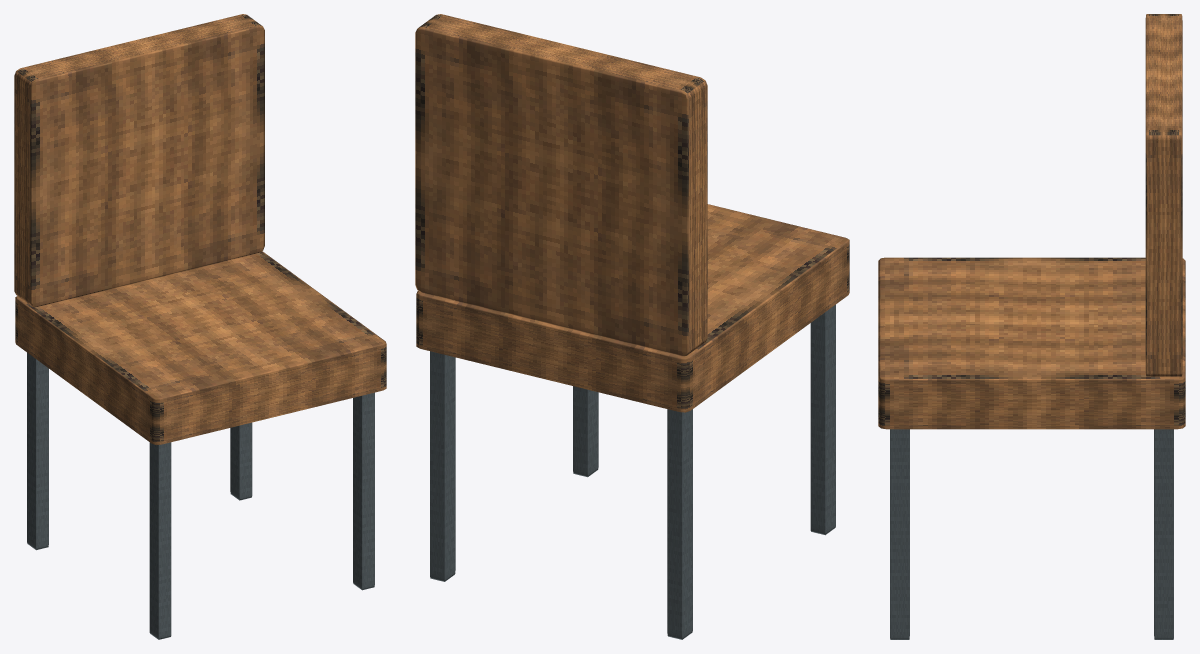
Rendered from dining-chair.glb.
3 views of the same model, side by side, from view 1: azimuth 30°, elevation 25°; view 2: azimuth 150°, elevation 25°; view 3: azimuth 270°, elevation 25° (orthographic). The views are drawn at different scales.
Visible parts, largest first — view 1: back, seat, leg (×4); view 2: back, seat, leg (×4); view 3: seat, back, leg (×2).
Boxes of the visible parts, x1,y1,x2,y2 form: back: (14,14,264,307); seat: (15,251,386,444); leg (×4): (27,352,374,639); back: (415,14,707,356); seat: (416,204,849,412); leg (×4): (430,304,835,639); seat: (878,257,1185,429); back: (1145,14,1182,376); leg (×2): (890,429,1173,639).
Bounding box in the file's own units: 0.4554 × 0.88 × 0.48.
2 materials, 2 textured.
